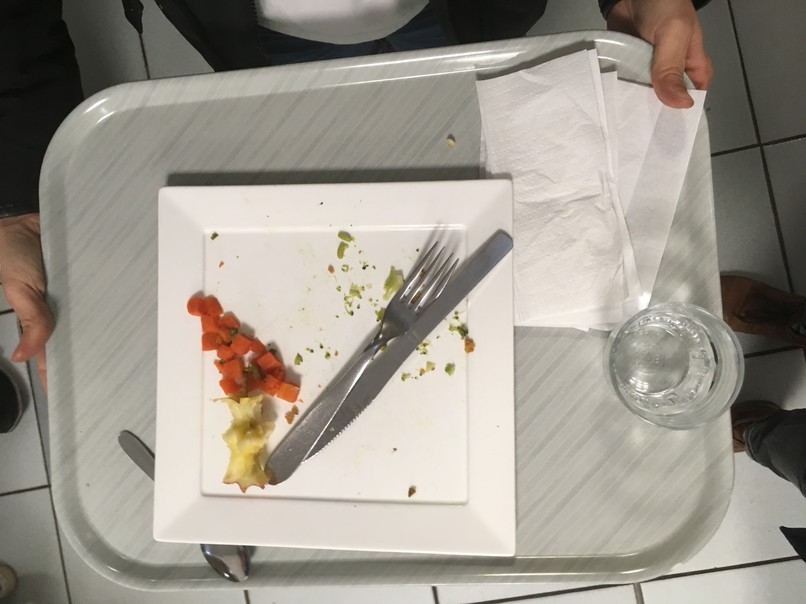cup: (614, 298, 748, 439)
cutlery: (111, 422, 257, 585), (368, 226, 480, 371), (280, 396, 378, 491)
orga: (187, 295, 302, 395), (226, 400, 275, 495)
trash: (480, 61, 690, 319)
